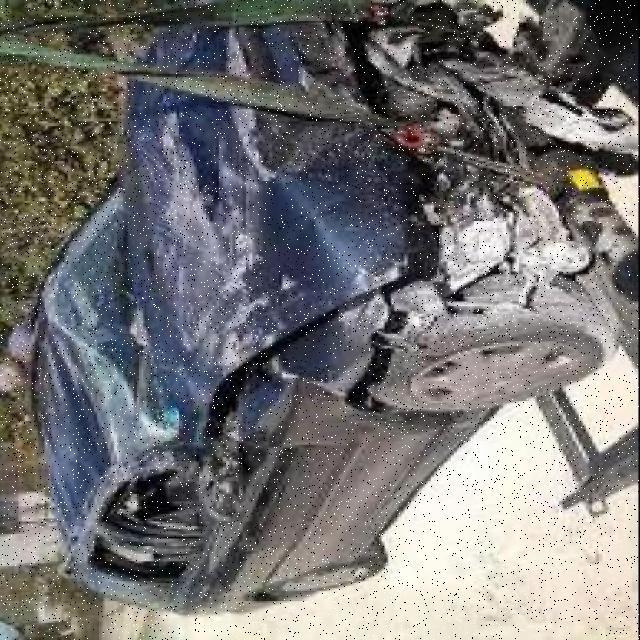damage: (48, 0, 599, 545)
